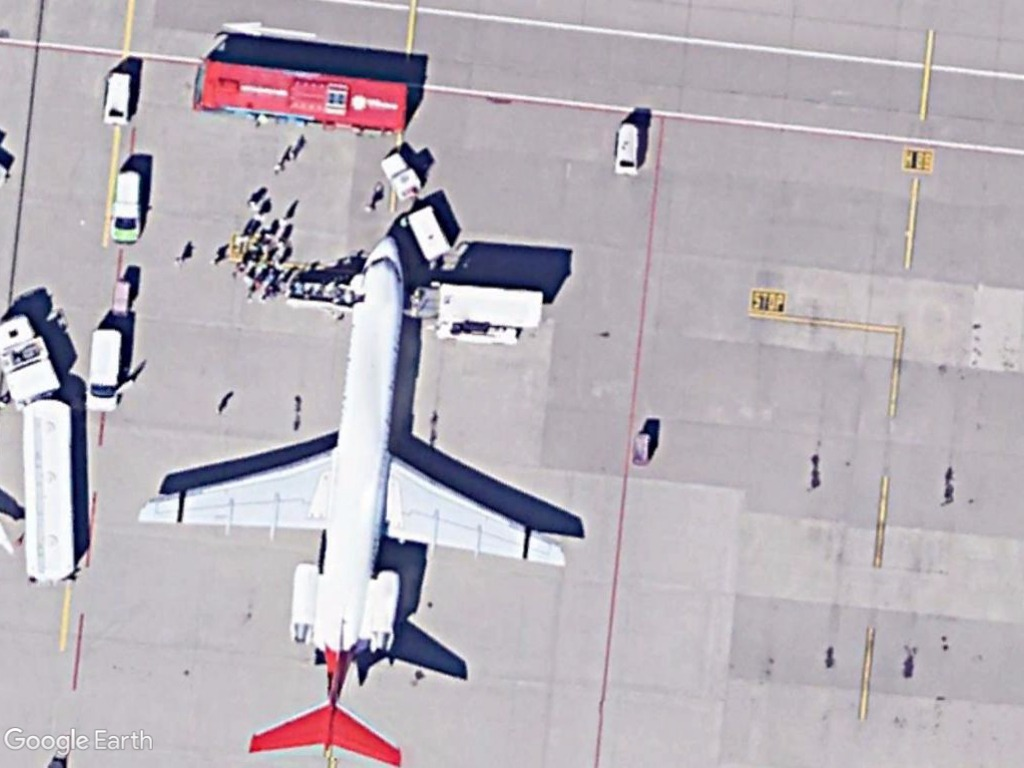bus: (191, 57, 412, 139)
chartered: (131, 224, 571, 768)
longvehicle: (23, 397, 79, 587)
truck: (406, 274, 545, 335)
van: (85, 325, 122, 416), (111, 169, 146, 247)
